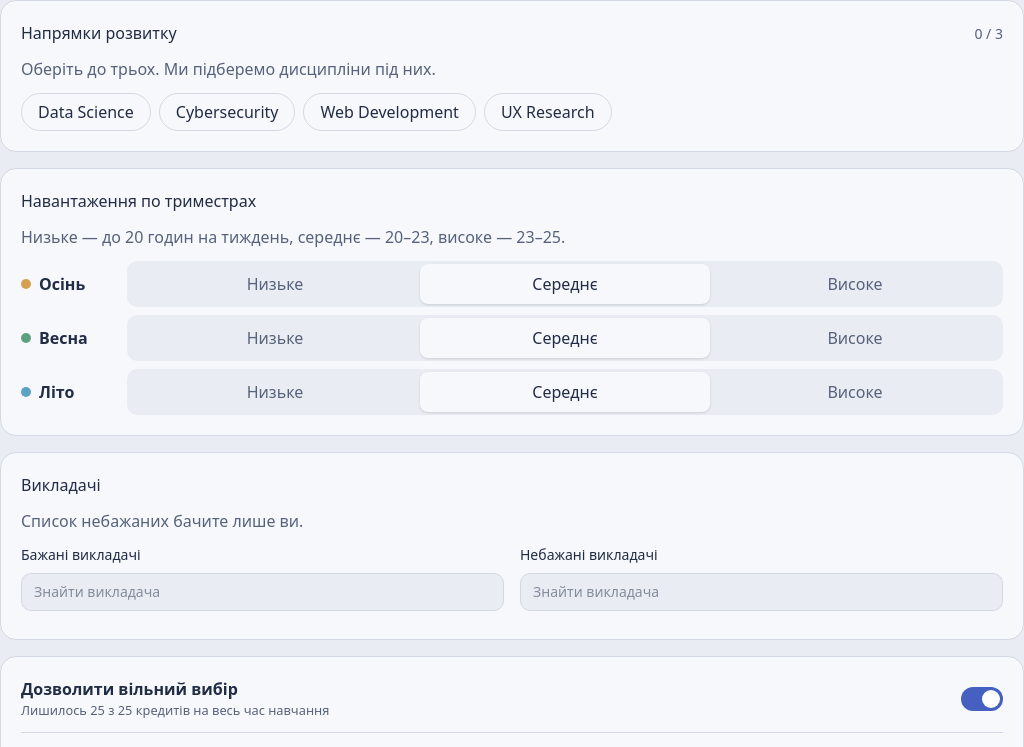
Test: напрямки › після трьох вибраних четвертий недоступний
Click the button "Data Science" at (86, 112), box [21,93,151,131]
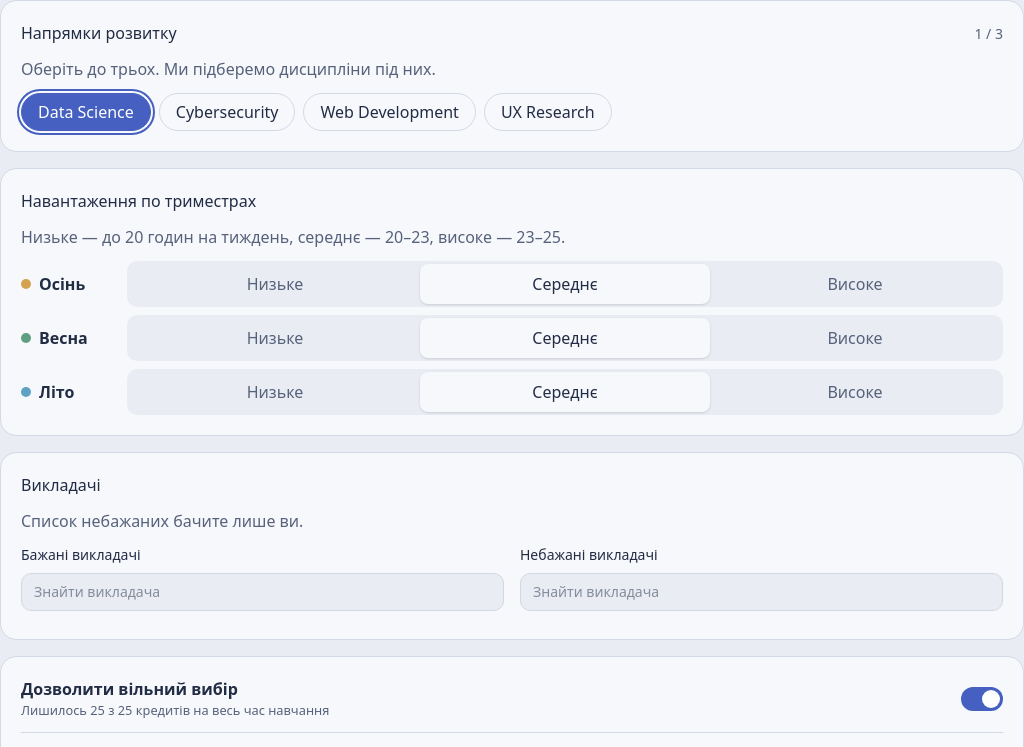
Click the button "Cybersecurity" at (227, 112), box [159,93,296,131]
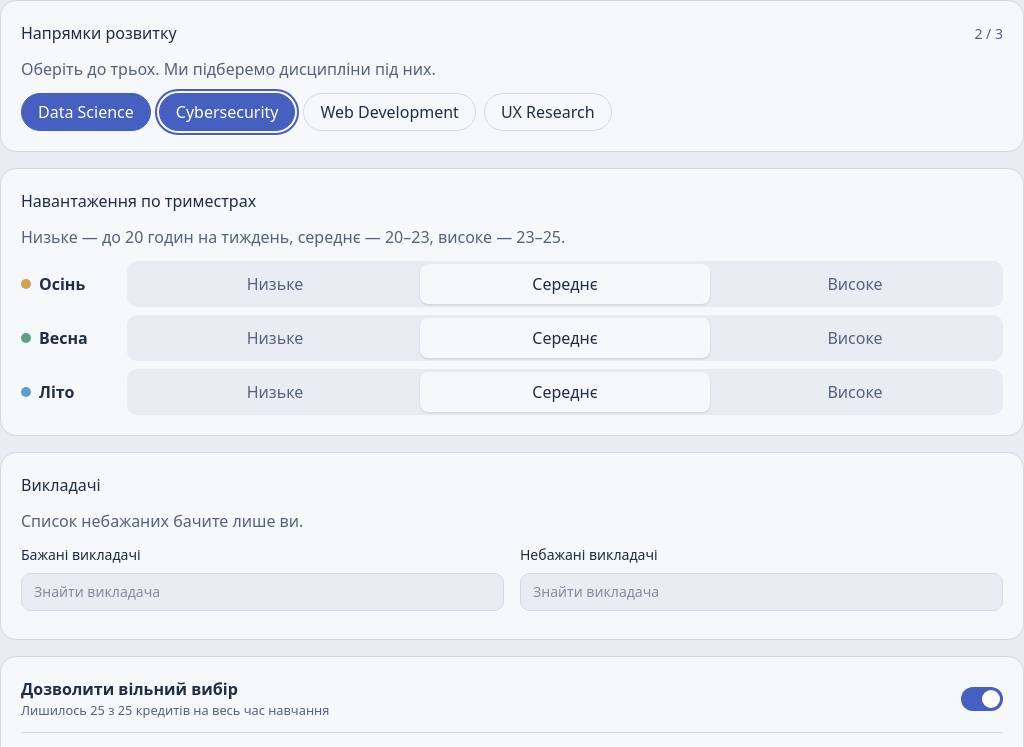
Click the button "Web Development" at (390, 112), box [304,93,476,131]
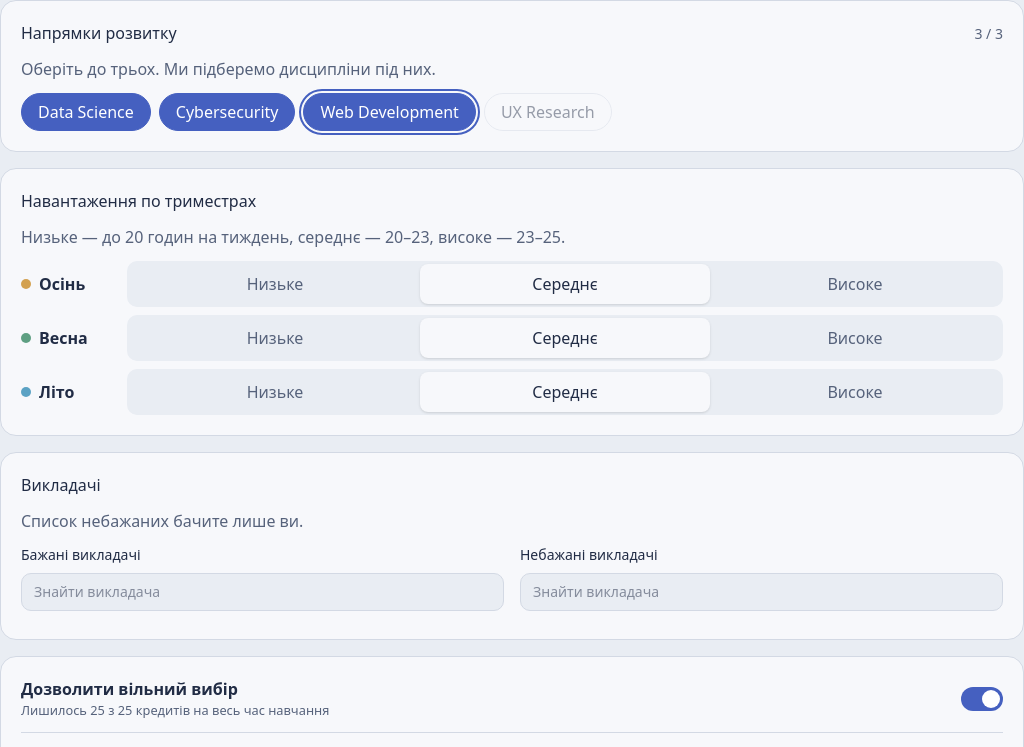
Expected: the text "3 / 3" is shown, [974,24,1003,44]
Expected: the button "UX Research" is disabled, [484,93,612,131]
Click the button "Web Development" at (390, 112), box [304,93,476,131]
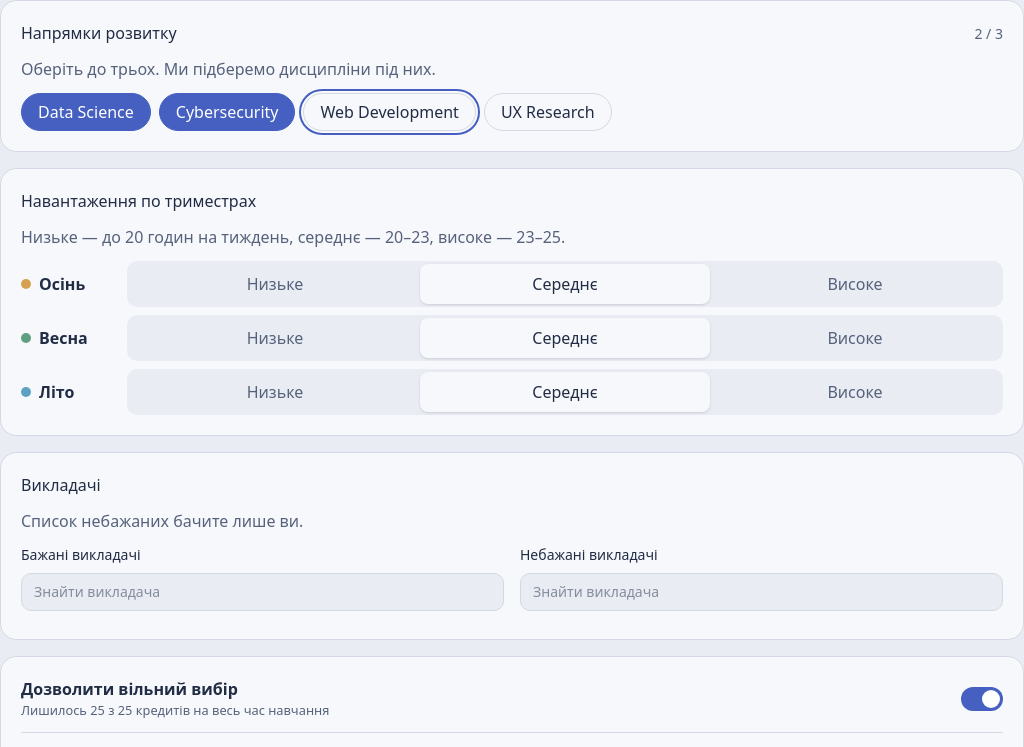
Expected: the button "UX Research" is enabled, [484,93,612,131]
